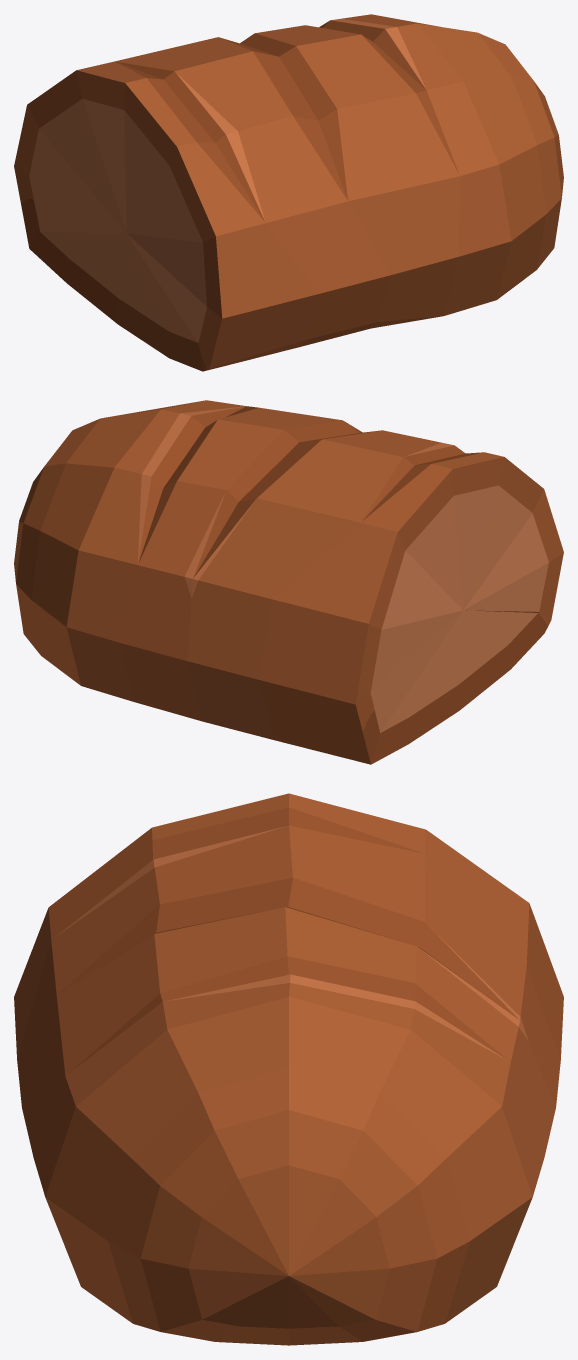
The model's file is mesh_bread_half.fbx.
3 renders of one model, top to bottom at view 1: azimuth 30°, elevation 25°; view 2: azimuth 150°, elevation 25°; view 3: azimuth 270°, elevation 25°, orthographic. The views are drawn at different scales.
Visible parts, largest first — view 1: mesh_bread_half; view 2: mesh_bread_half; view 3: mesh_bread_half.
Part boxes in pixels (x1,y1,x2,y2): mesh_bread_half: (14,14,563,371); mesh_bread_half: (14,400,563,764); mesh_bread_half: (14,793,563,1345).
Bounding box in the file's own units: 0.3818 × 0.2037 × 0.3181.
